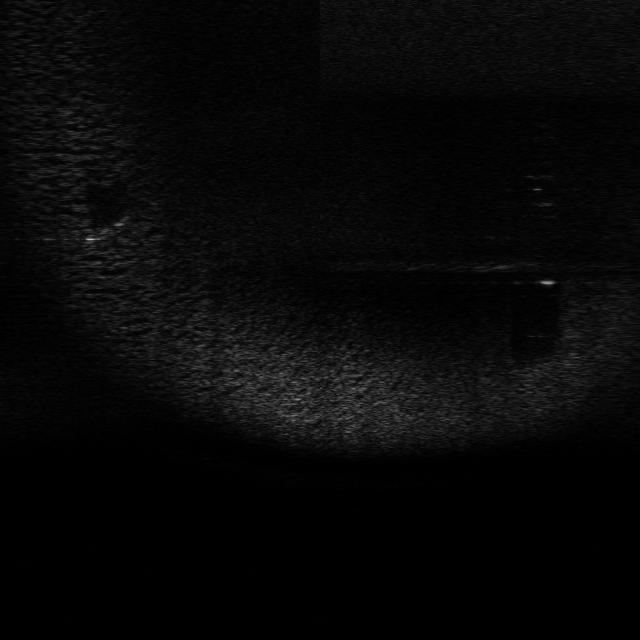plane: (80, 217, 140, 248)
